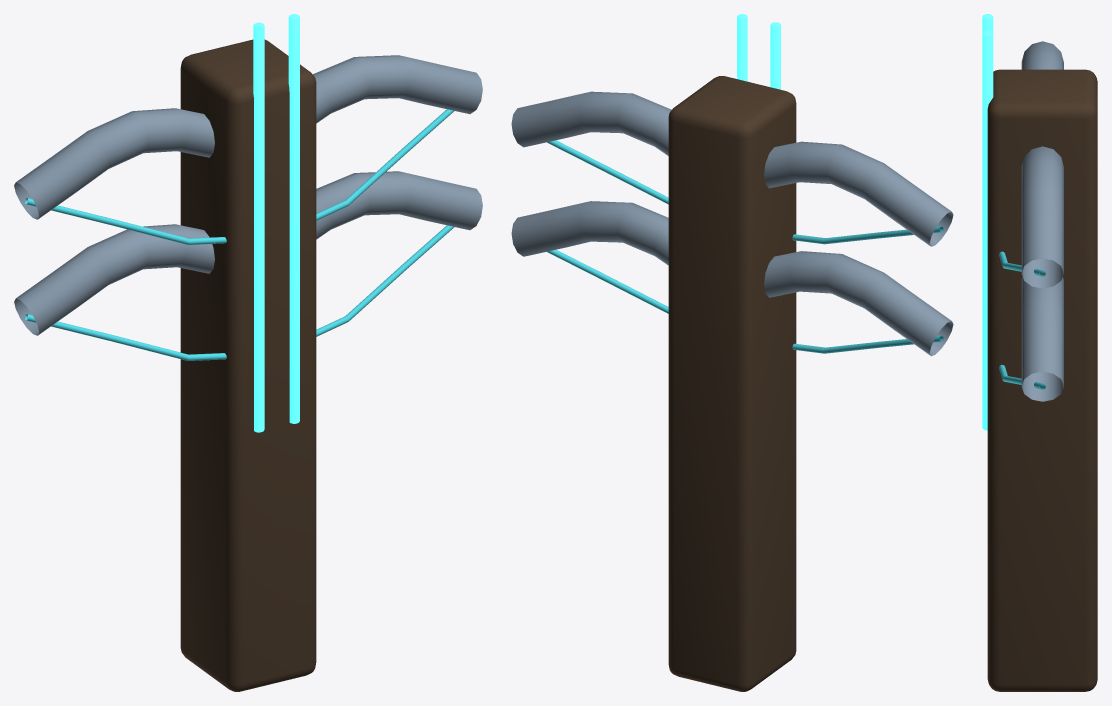
Rendered from bow_v8.glb.
The picture shows the model from 3 angles, left to right: view 1: azimuth 30°, elevation 25°; view 2: azimuth 150°, elevation 25°; view 3: azimuth 270°, elevation 25°; orthographic projection. The views are drawn at different scales.
Parts seen in each view (by area): view 1: TWIN_STOCK_SECONDARY, TWIN_LIMB_PRIMARY.001, TWIN_LIMB_PRIMARY, TWIN_BOLT_EMISSIVE, TWIN_BOLT_EMISSIVE.001, TWIN_STRING_ACCENT, TWIN_STRING_ACCENT.001; view 2: TWIN_STOCK_SECONDARY, TWIN_LIMB_PRIMARY.001, TWIN_LIMB_PRIMARY, TWIN_STRING_ACCENT.001, TWIN_STRING_ACCENT, TWIN_BOLT_EMISSIVE.001, TWIN_BOLT_EMISSIVE; view 3: TWIN_STOCK_SECONDARY, TWIN_LIMB_PRIMARY.001, TWIN_LIMB_PRIMARY, TWIN_BOLT_EMISSIVE.001, TWIN_STRING_ACCENT.001, TWIN_STRING_ACCENT, TWIN_BOLT_EMISSIVE.
Part boxes in pixels (x1,y1,x2,y2): TWIN_STOCK_SECONDARY: (180, 39, 316, 691); TWIN_LIMB_PRIMARY.001: (14, 55, 482, 219); TWIN_LIMB_PRIMARY: (14, 171, 482, 335); TWIN_BOLT_EMISSIVE: (253, 22, 264, 432); TWIN_BOLT_EMISSIVE.001: (288, 14, 299, 423); TWIN_STRING_ACCENT: (25, 225, 454, 360); TWIN_STRING_ACCENT.001: (25, 109, 454, 244); TWIN_STOCK_SECONDARY: (668, 76, 796, 691); TWIN_LIMB_PRIMARY.001: (511, 91, 953, 246); TWIN_LIMB_PRIMARY: (511, 201, 953, 356); TWIN_STRING_ACCENT.001: (547, 140, 943, 244); TWIN_STRING_ACCENT: (547, 250, 943, 353); TWIN_BOLT_EMISSIVE.001: (737, 14, 747, 81); TWIN_BOLT_EMISSIVE: (770, 22, 780, 89); TWIN_STOCK_SECONDARY: (987, 69, 1097, 691); TWIN_LIMB_PRIMARY.001: (1021, 41, 1063, 288); TWIN_LIMB_PRIMARY: (1021, 277, 1063, 401); TWIN_BOLT_EMISSIVE.001: (982, 31, 993, 430); TWIN_STRING_ACCENT.001: (999, 251, 1045, 276); TWIN_STRING_ACCENT: (999, 365, 1045, 389); TWIN_BOLT_EMISSIVE: (982, 14, 993, 33).
Size of the model in its own units: 2.06 by 2.87 by 0.462.
